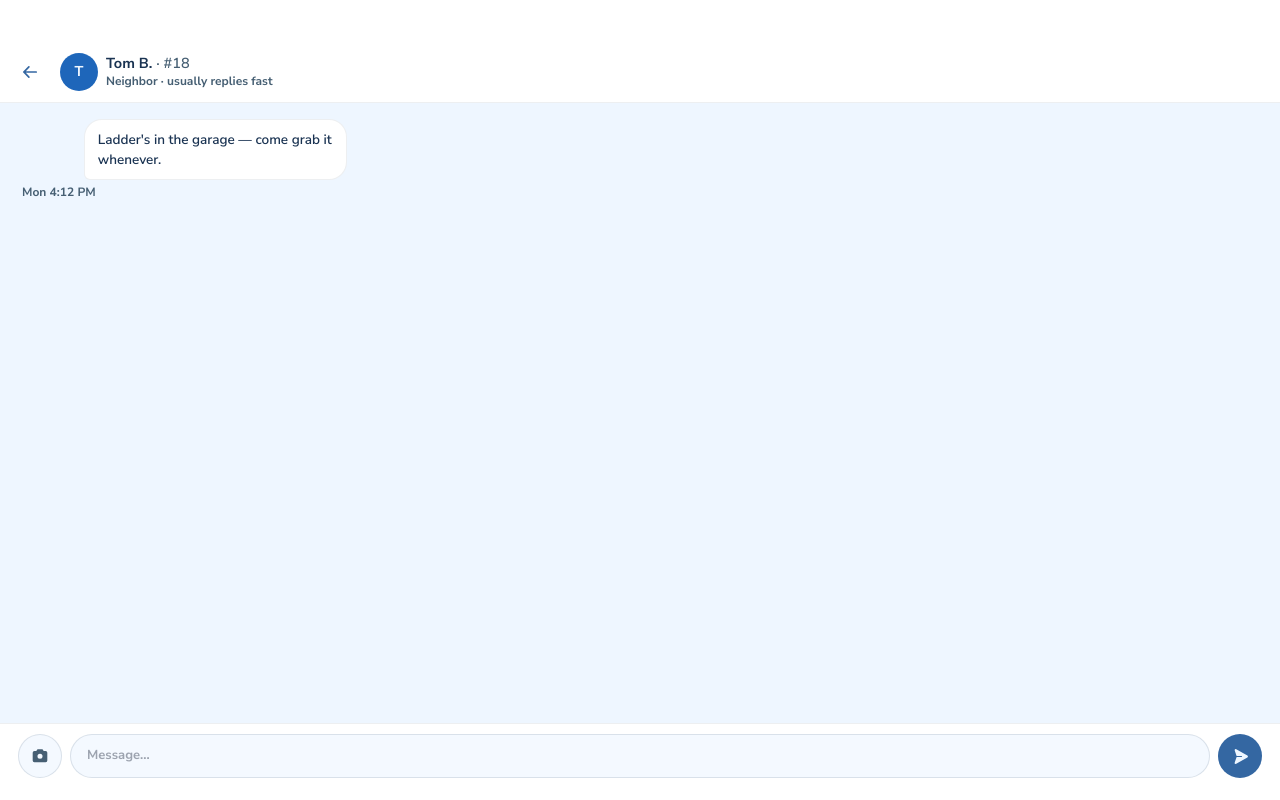
Test case: chat sends and receives canned reply
Type "Thanks Tom!" into the field with placeholder "Message…" at (640, 756), box [70,734,1210,778]
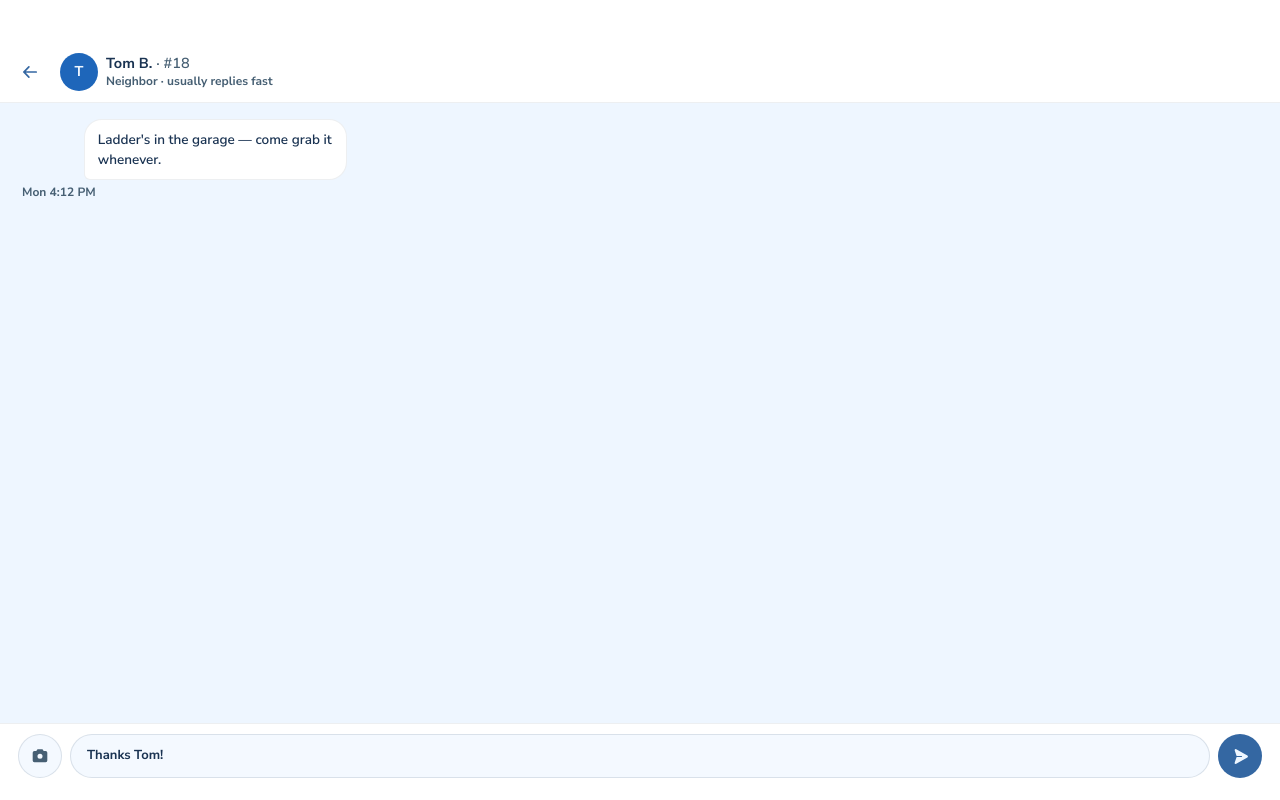
Press Enter in the field with placeholder "Message…", box [70,734,1210,778]
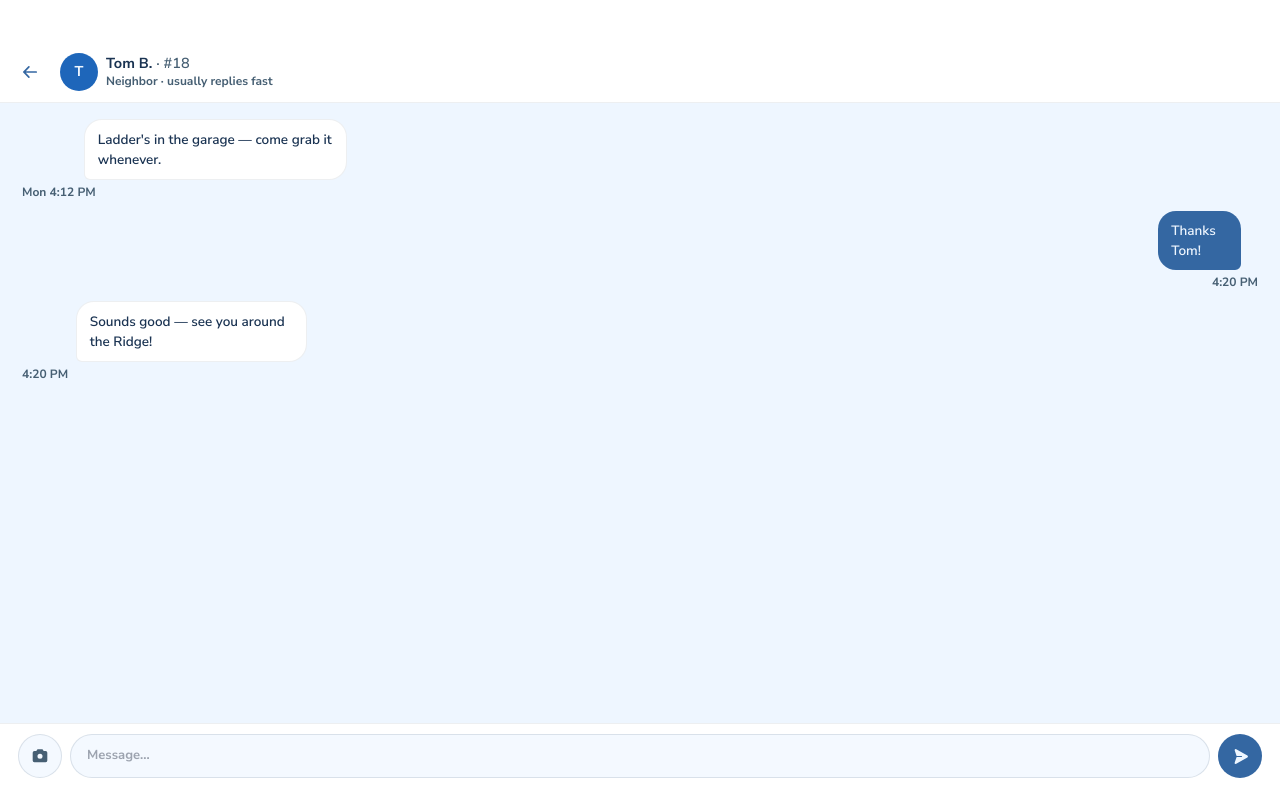
Now the text "Thanks Tom!" is shown, box [1171,221,1216,260]
Now the text "Sounds good — see you around the Ridge!" is shown, box [90,312,293,351]
